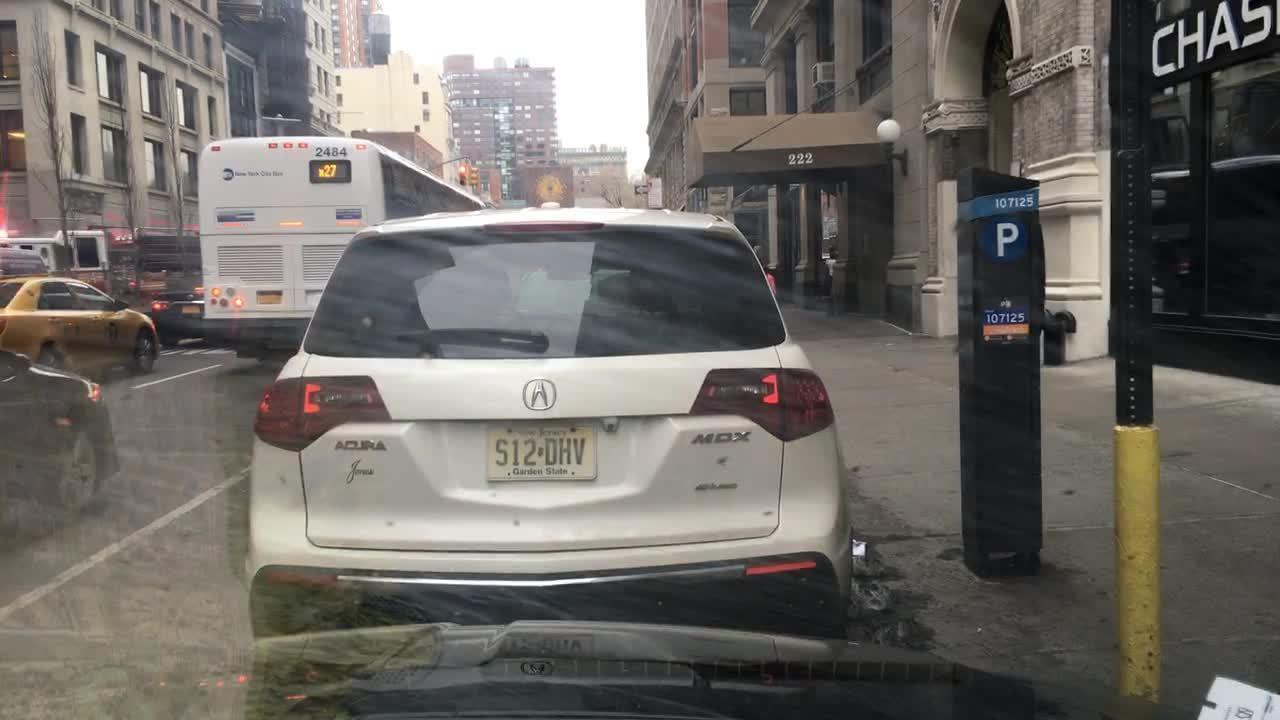acura: (511, 361, 581, 427)
